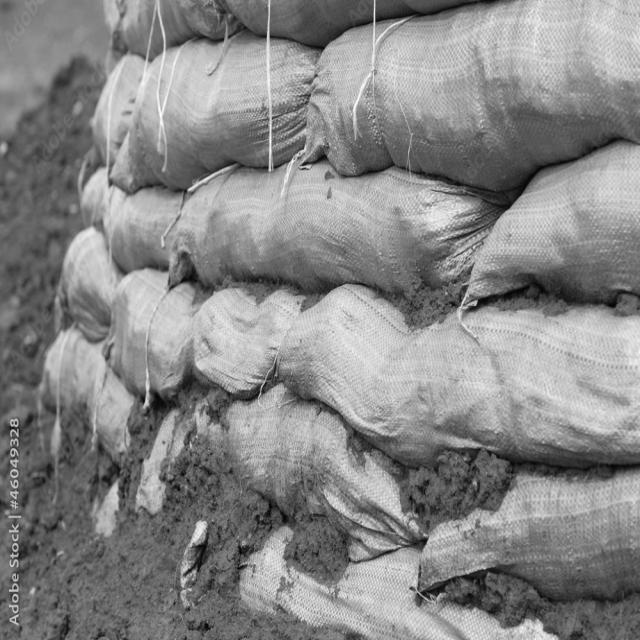sack: (276, 282, 639, 465), (302, 1, 640, 189), (132, 384, 427, 560), (81, 167, 498, 286), (238, 521, 551, 640), (94, 34, 316, 193), (458, 140, 640, 311), (416, 464, 640, 602), (107, 267, 301, 396), (40, 326, 137, 464)
